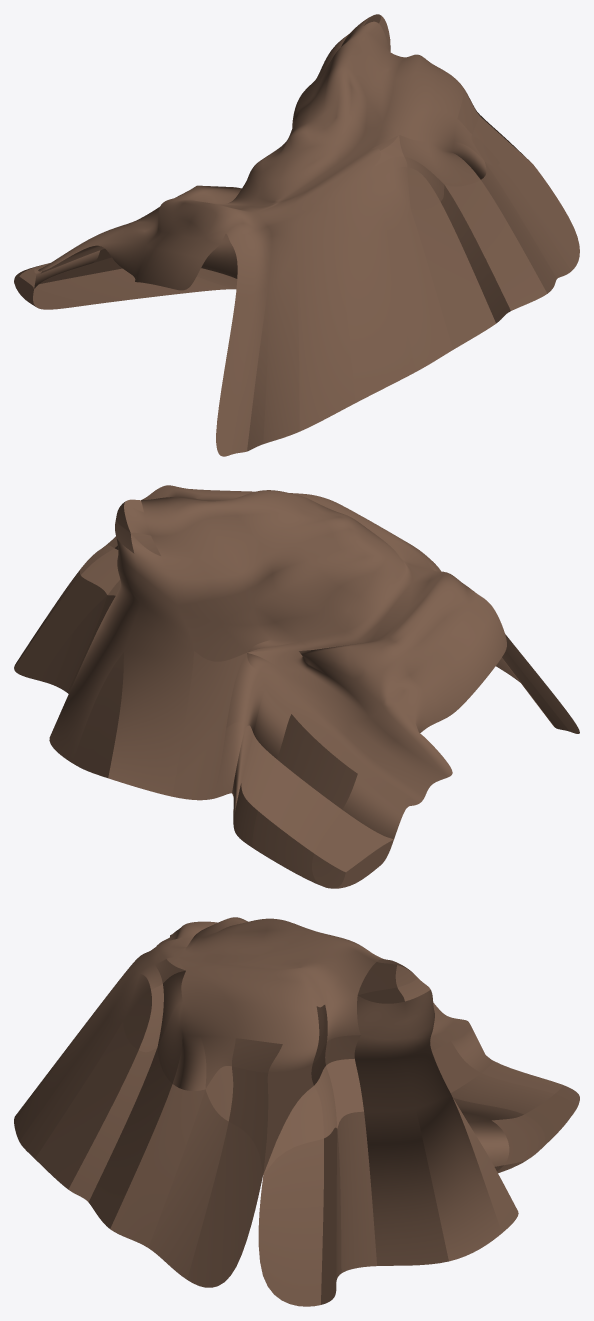
The model's file is level_3.fbx.
The picture shows the model from 3 angles, top to bottom: view 1: azimuth 30°, elevation 25°; view 2: azimuth 150°, elevation 25°; view 3: azimuth 270°, elevation 25°; orthographic projection. The views are drawn at different scales.
Visible parts, largest first — view 1: 3; view 2: 3; view 3: 3.
Part boxes in pixels (x1,y1,x2,y2): 3: (14, 14, 579, 456); 3: (14, 485, 579, 888); 3: (14, 917, 579, 1306).
Bounding box in the file's own units: 317760 × 168061 × 278204.
